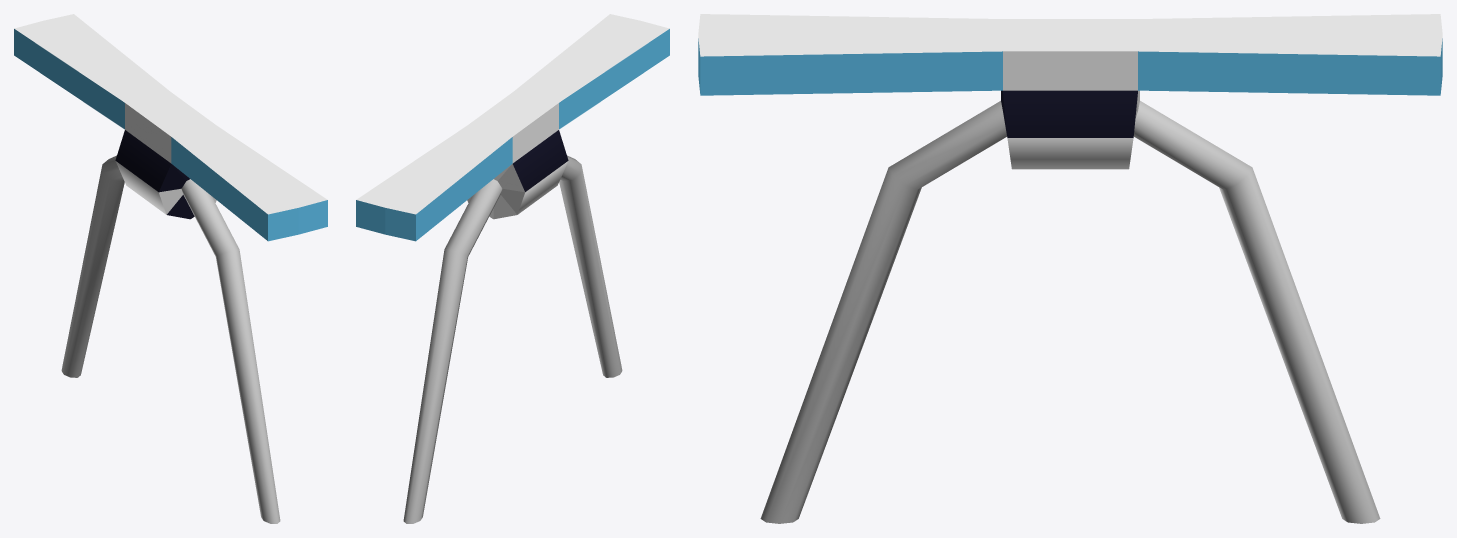
3 views of the same model, side by side, from view 1: azimuth 30°, elevation 25°; view 2: azimuth 150°, elevation 25°; view 3: azimuth 270°, elevation 25° (orthographic). The views are drawn at different scales.
Parts seen in each view (by area): view 1: Cylinder011; view 2: Cylinder011; view 3: Cylinder011.
Boxes of the visible parts, x1,y1,x2,y2 form: Cylinder011: (14,14,327,523); Cylinder011: (356,14,669,523); Cylinder011: (698,14,1442,523).
Bounding box in the file's own units: 72.62 × 339 × 474.
